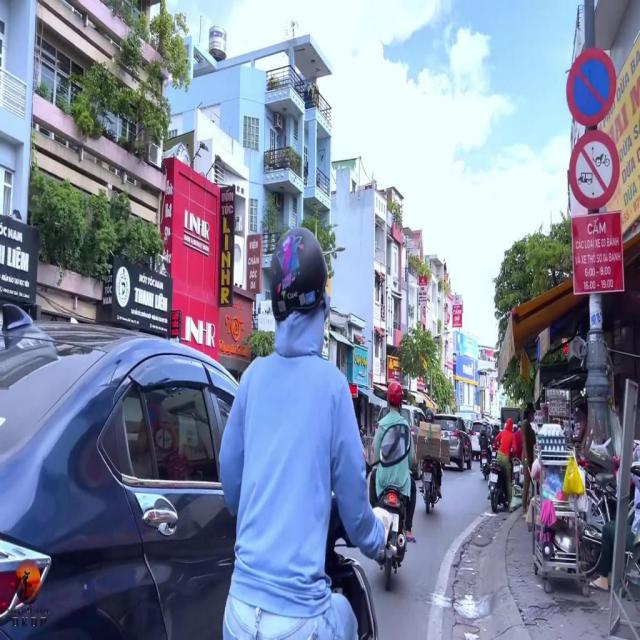cam_cac_loai_xe_3_banh: (569, 130, 620, 208)
cam_do_xe: (568, 49, 618, 128)
